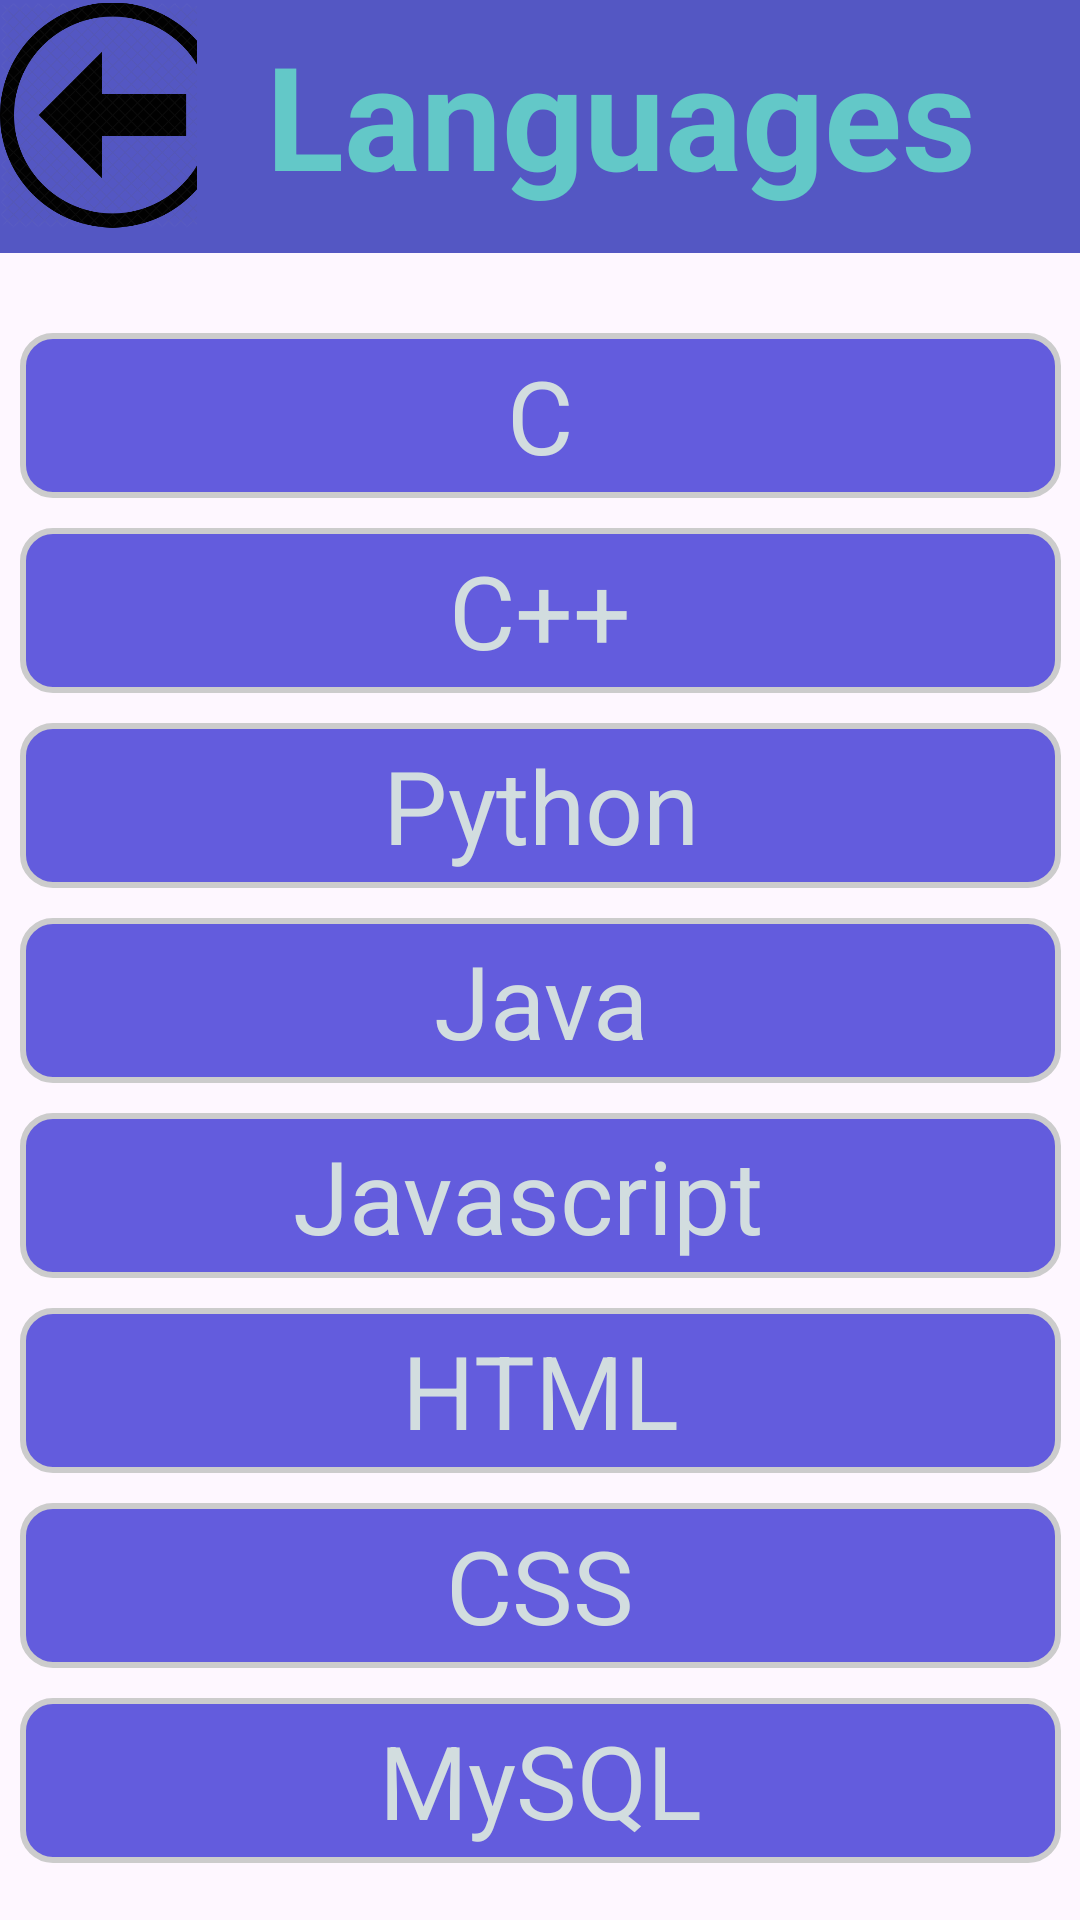

Screen size 1080w x 1920h. Icon name, then its center in pixels as point (x, y):
back: point (98, 115)
